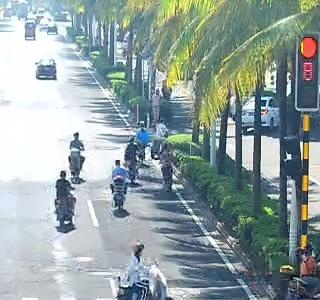red: (295, 36, 318, 59)
redtime: (300, 63, 318, 81)
